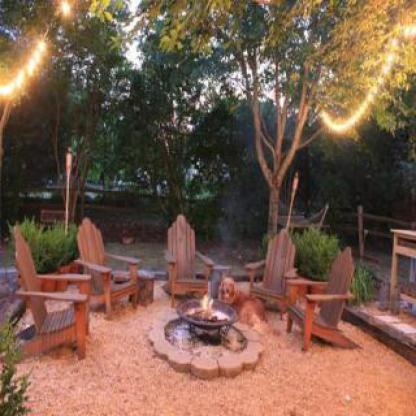fire: (197, 290, 223, 325)
